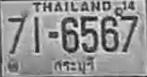1: (33, 16, 38, 52)
5: (80, 15, 97, 52)
6: (100, 15, 118, 51), (61, 16, 78, 52)
7: (7, 16, 28, 53), (120, 14, 137, 51)
SRI: (52, 57, 96, 75)
